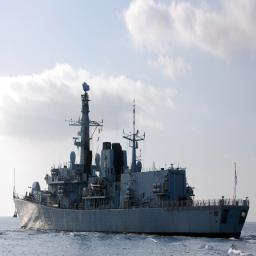Fragata: (11, 77, 252, 238)
